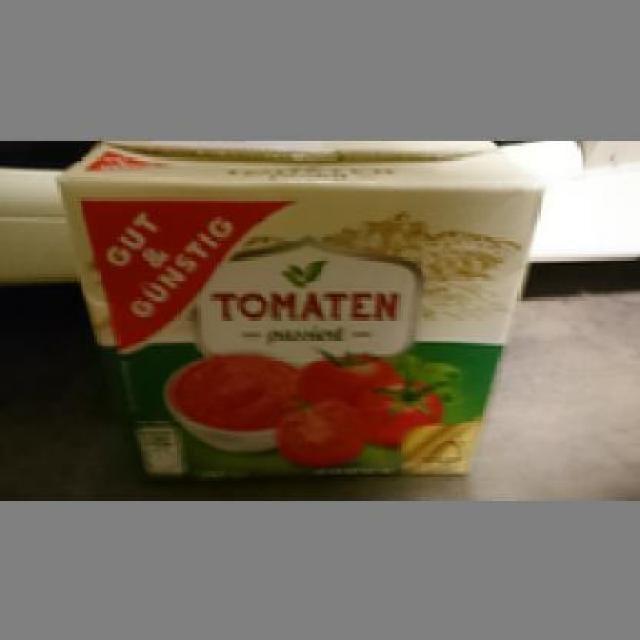Tomato Sauce: (51, 140, 546, 477)
